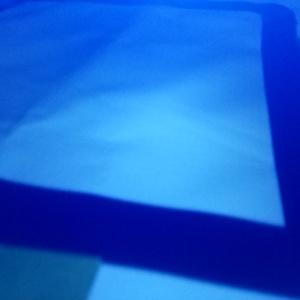bottom_right: (1, 200, 125, 299)
